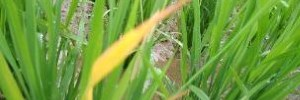RiceTungro: (88, 18, 119, 96)
